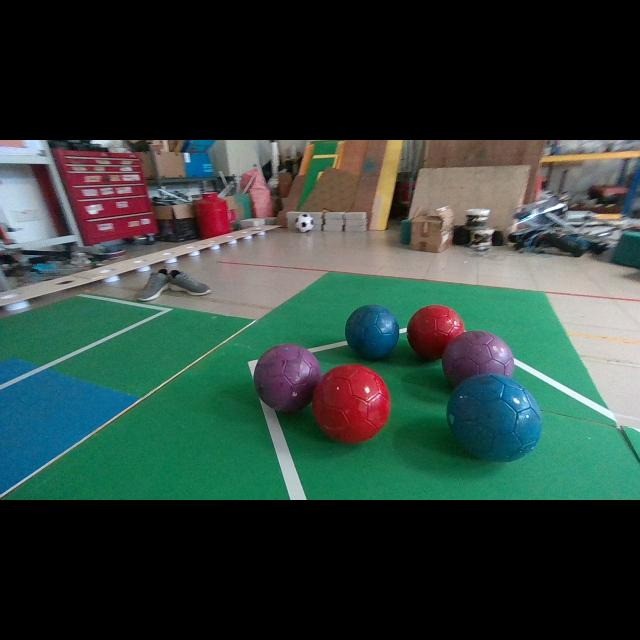B: (446, 374, 542, 462), (345, 305, 399, 359)
P: (254, 344, 321, 412), (442, 330, 515, 386)
R: (312, 364, 390, 444), (408, 305, 465, 360)
